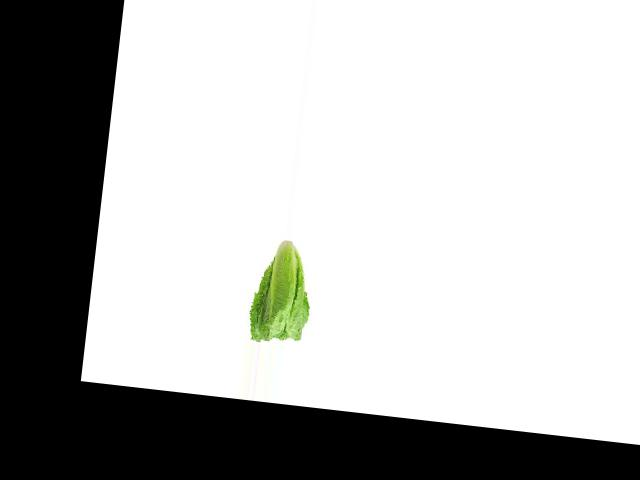lettuce: (243, 237, 324, 348)
